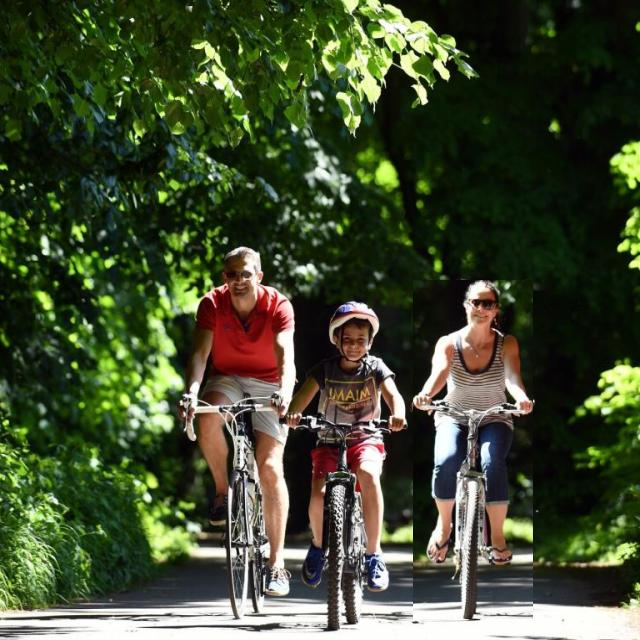bicycle: (180, 248, 295, 617), (413, 281, 532, 619), (285, 301, 406, 631)
